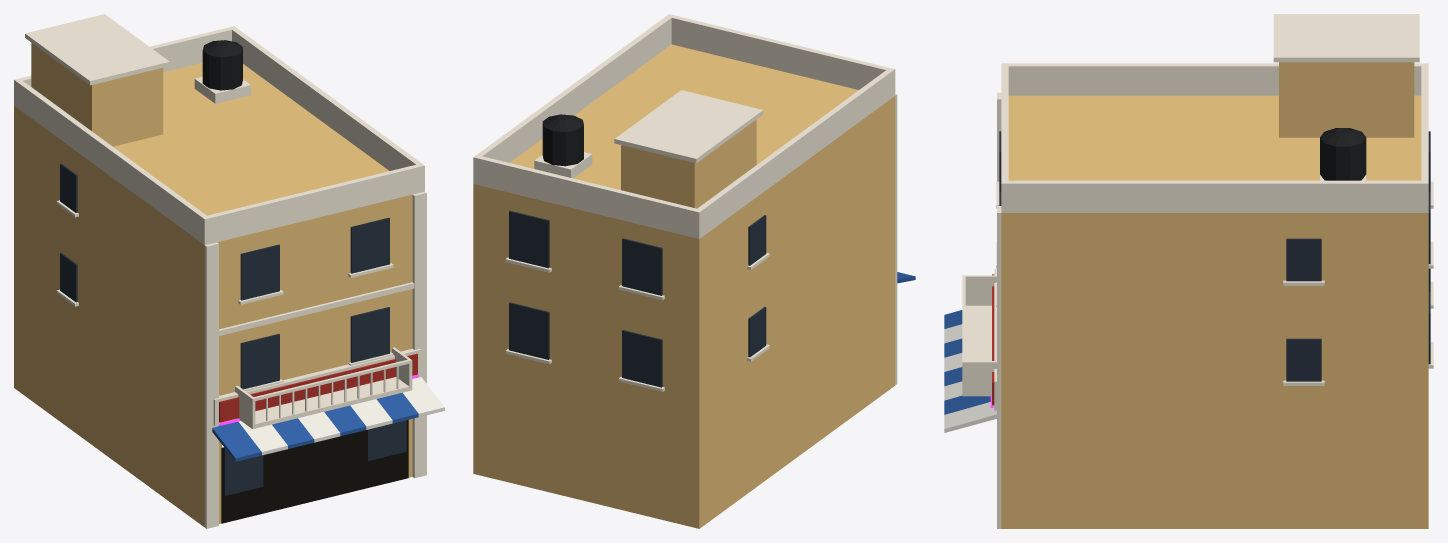
File: bld_shophouse_02.glb
3 views of the same model, side by side, from view 1: azimuth 30°, elevation 25°; view 2: azimuth 150°, elevation 25°; view 3: azimuth 270°, elevation 25° (orthographic). The views are drawn at different scales.
Visible parts, largest first — view 1: bld_shophouse_02; view 2: bld_shophouse_02; view 3: bld_shophouse_02.
Boxes of the visible parts, <box> form: bld_shophouse_02: <box>14,14,444,528</box>; bld_shophouse_02: <box>473,14,915,528</box>; bld_shophouse_02: <box>944,14,1433,528</box>.
Size of what is drawn, in the model's own units: 8.28 by 12.35 by 13.74.
